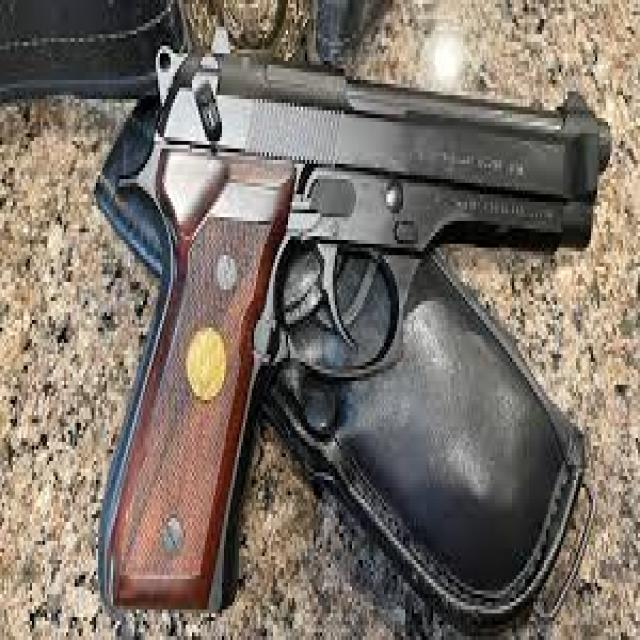Gun: (113, 28, 611, 640)
